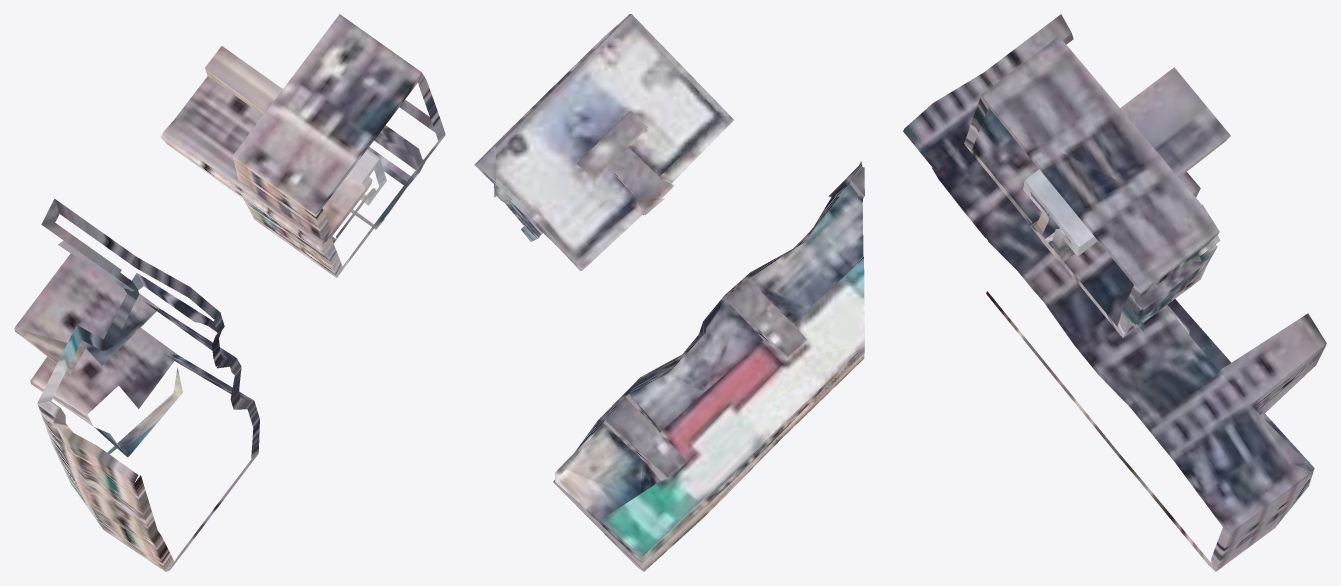
3 views of the same model, side by side, from view 1: azimuth 30°, elevation 25°; view 2: azimuth 150°, elevation 25°; view 3: azimuth 270°, elevation 25° (orthographic). The views are drawn at different scales.
Bounding box in the file's own units: 40.29 × 50.96 × 33.85.
Materials: 1 (1 with a texture image).
